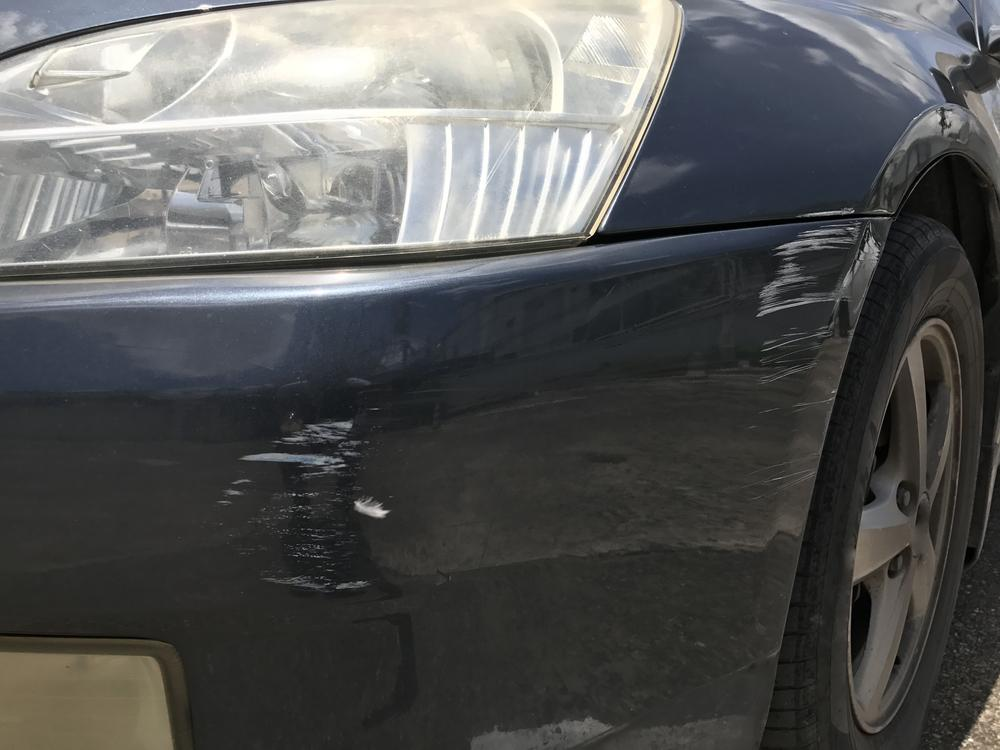scratch: (752, 226, 888, 496), (217, 418, 388, 603)
